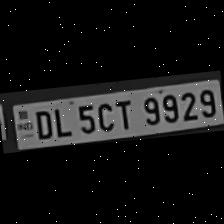2: (176, 88, 198, 122)
5: (72, 100, 97, 136)
9: (137, 92, 161, 128), (195, 86, 218, 120), (158, 91, 180, 125)
C: (94, 98, 117, 133)
D: (30, 107, 54, 141)
L: (51, 104, 72, 139)
T: (113, 96, 136, 132)
